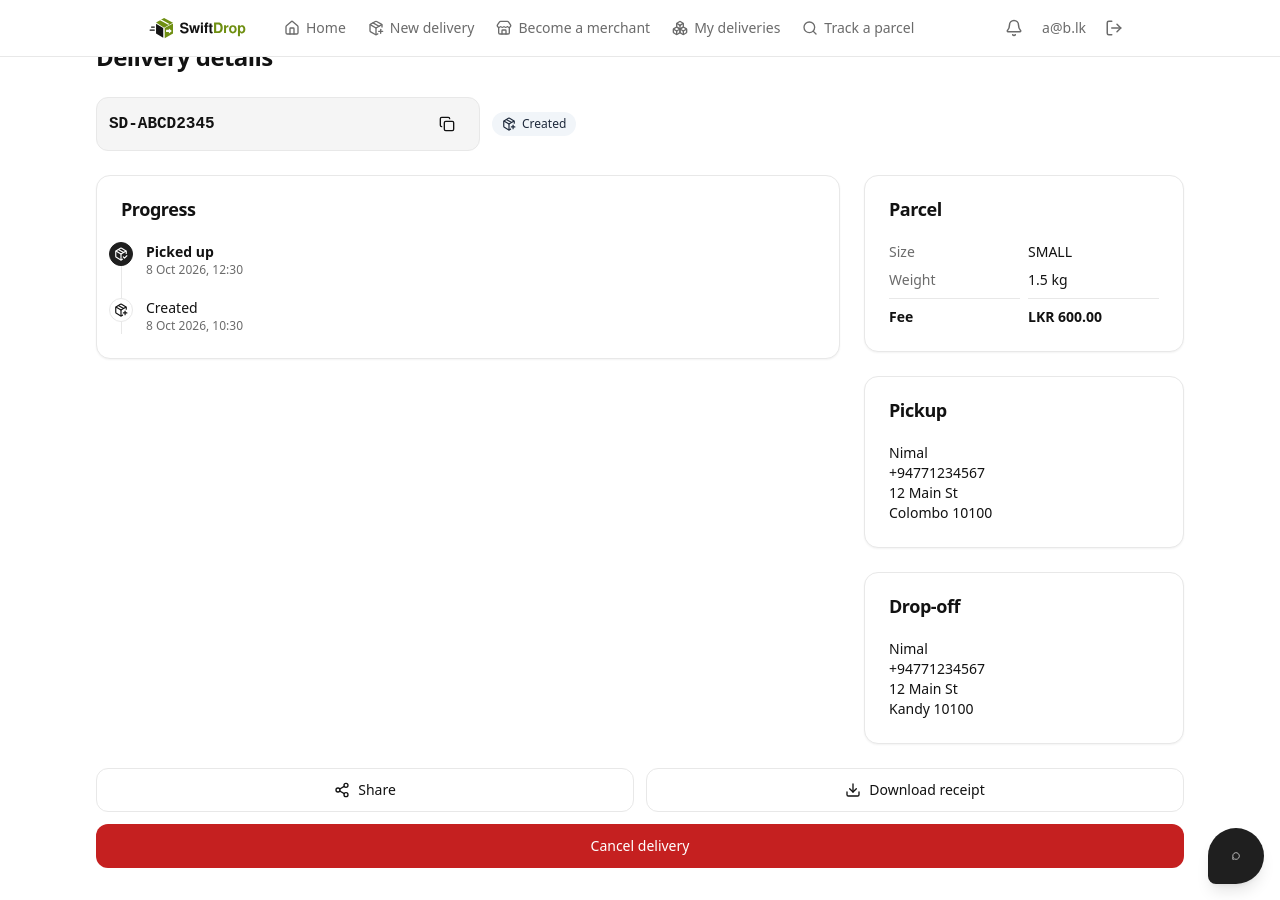
Test: delivery detail › surfaces a 409 on cancel as a readable toast and refetches
(page scrolled)
Click the button "Cancel delivery": (640, 846) [96, 824, 1184, 868]
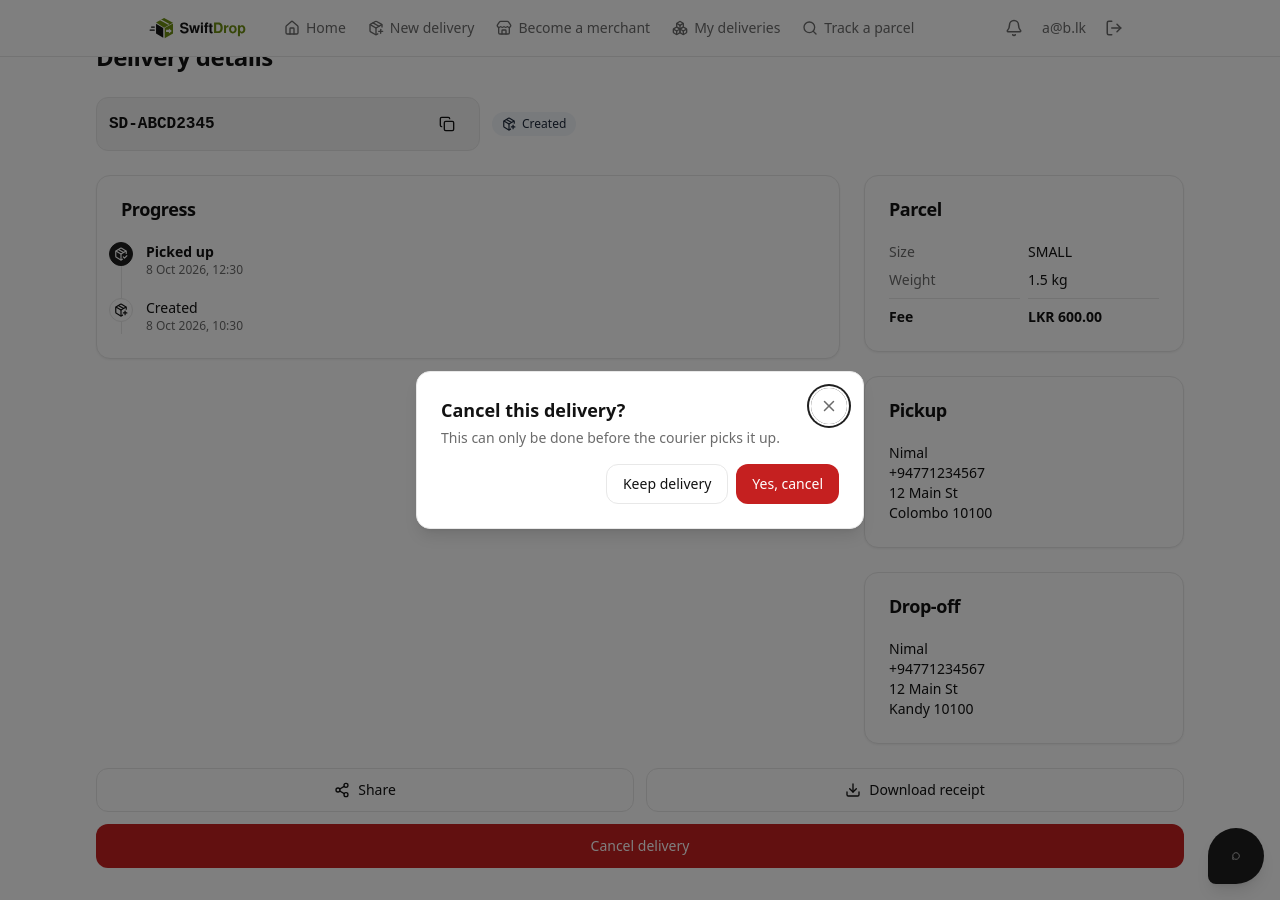
Click the button "Yes, cancel": (788, 484) [736, 464, 839, 504]
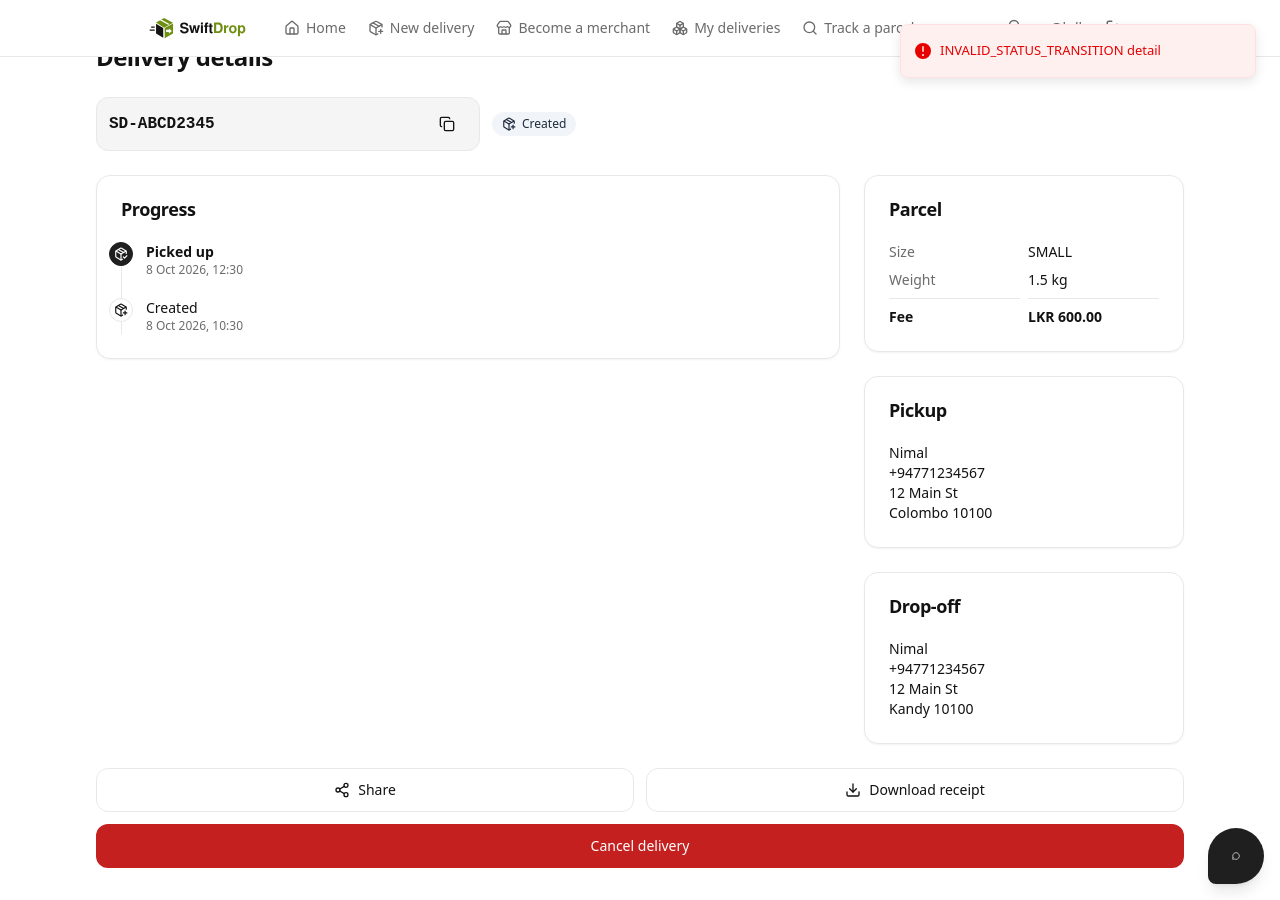
Expected: the text "INVALID_STATUS_TRANSITION detail" is shown, [940, 41, 1161, 60]
